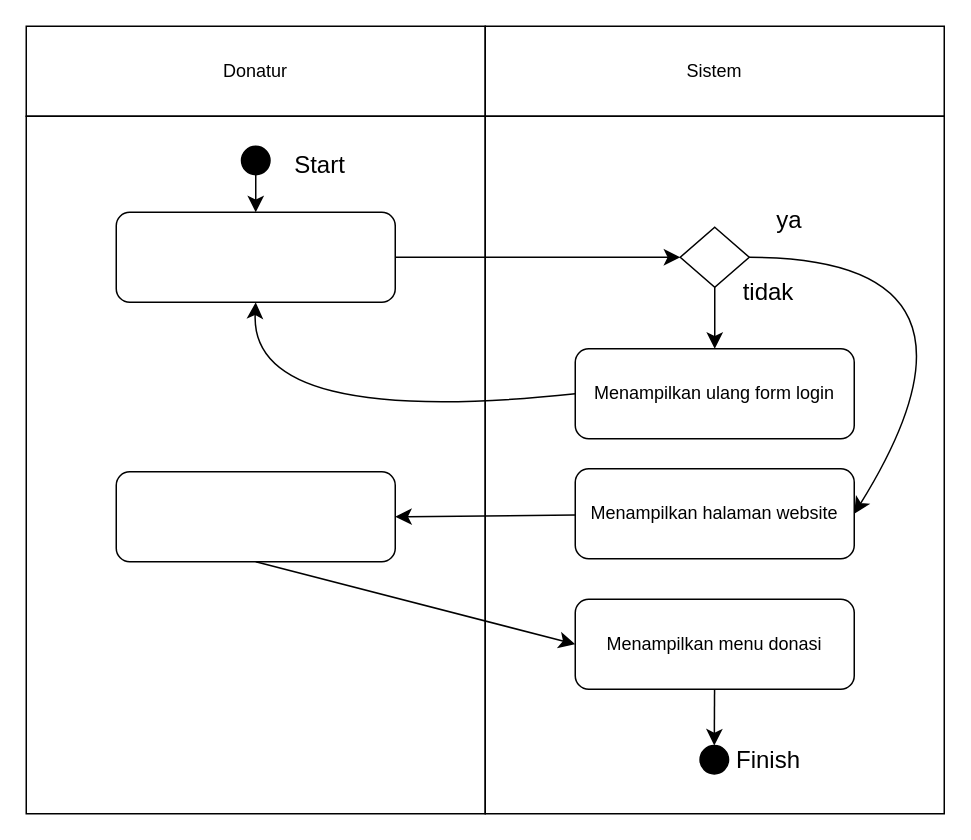
Image size: 971x840. Some labels were removed from this diagram. Here are the shapes that lost their labels. From the top down, the centre of each, then its label:
(255,256): Login
(255,516): Klik donasi
